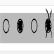correct: (16, 17, 24, 36)
no answer: (30, 15, 38, 37), (2, 17, 10, 37)
not correct: (44, 7, 52, 42)
